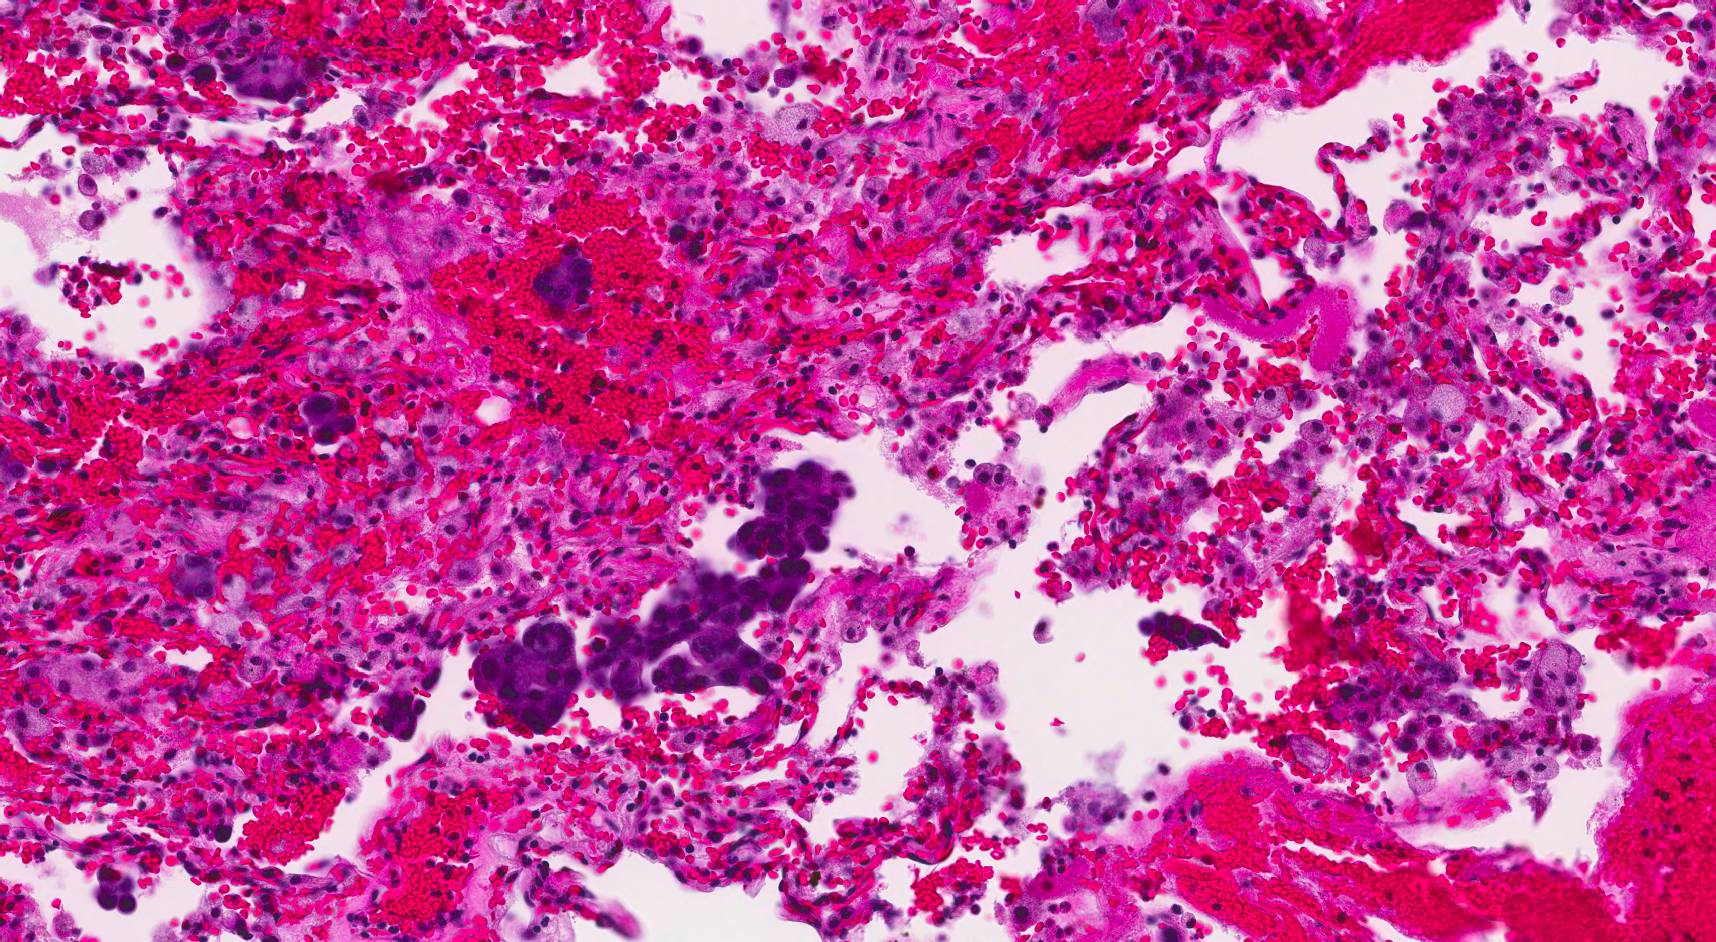stas: (588, 562, 811, 701), (723, 460, 861, 558), (469, 621, 585, 731), (220, 49, 332, 106), (532, 240, 601, 315), (1139, 606, 1223, 659), (379, 690, 432, 744), (301, 392, 353, 446), (90, 865, 141, 918)
